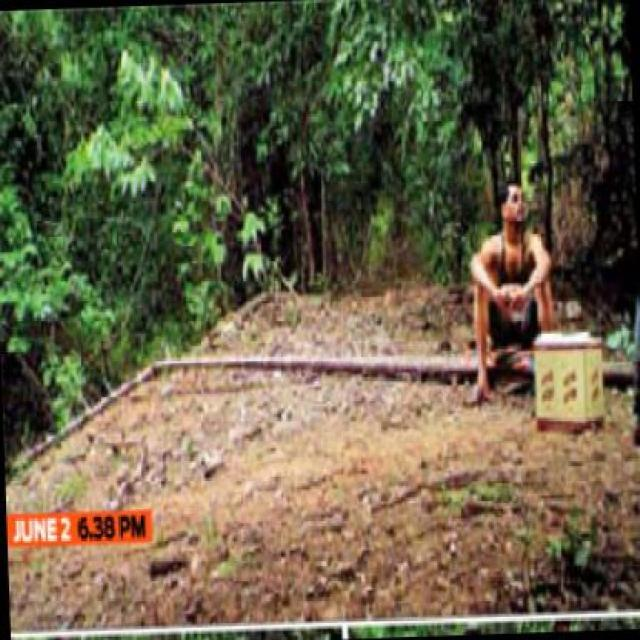poacher: (444, 150, 584, 436)
